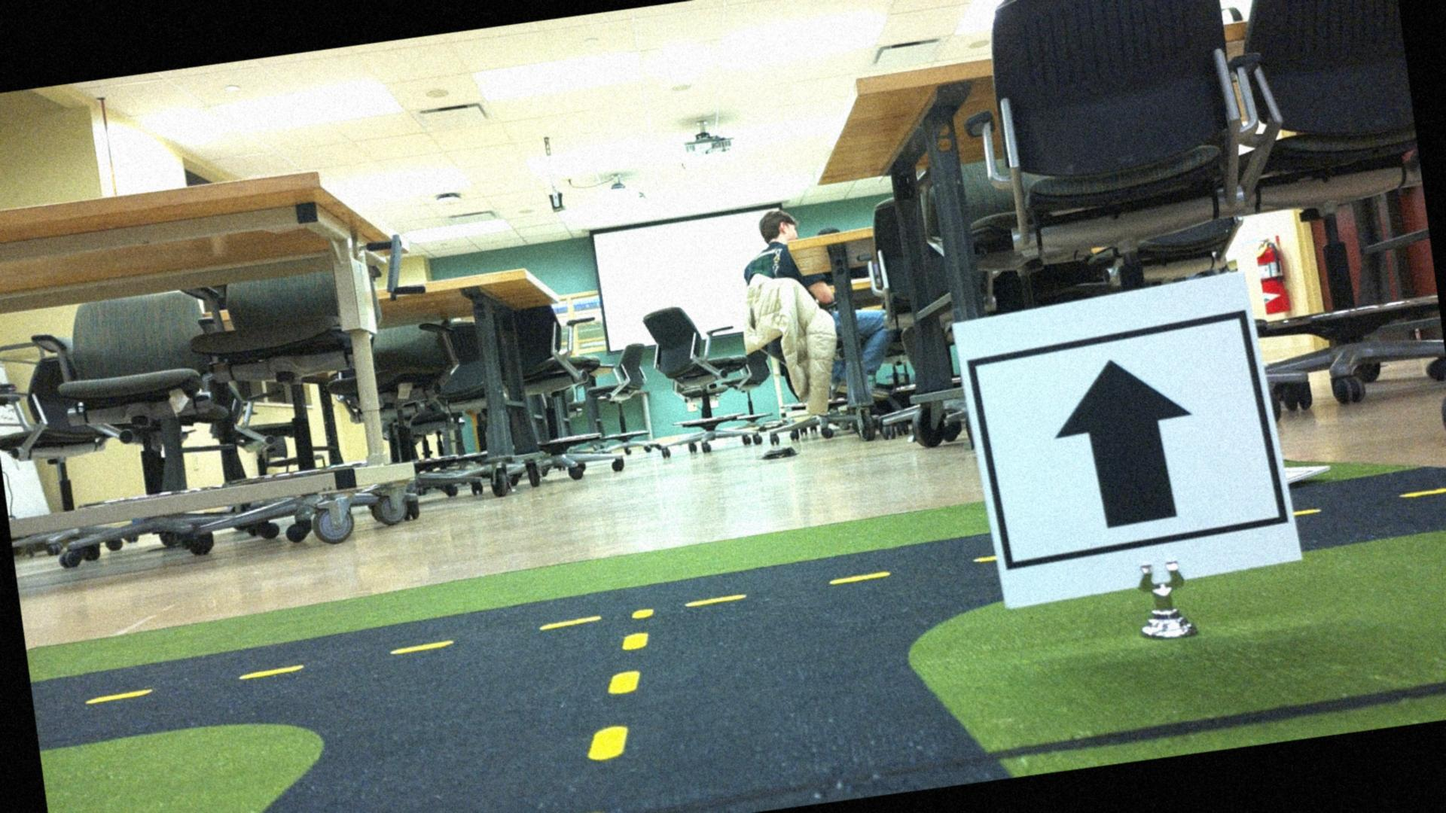gostraight: (966, 282, 1283, 596)
yellowline: (90, 553, 994, 702), (543, 607, 679, 812)
